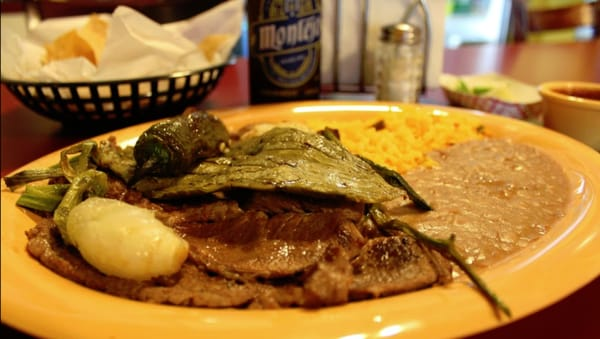pizza: (371, 20, 425, 104)
soup: (10, 109, 450, 310)
sushi: (438, 71, 545, 125), (538, 80, 600, 154)
